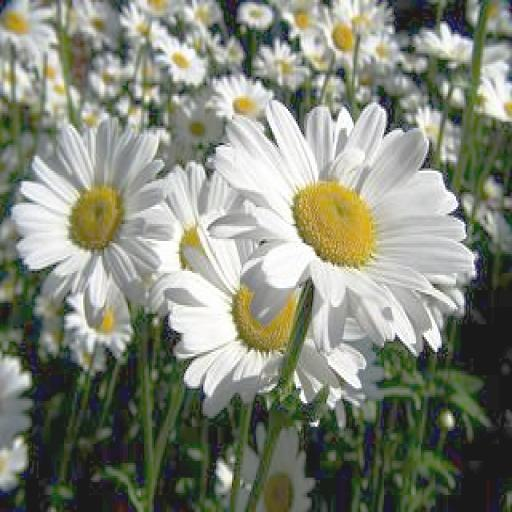daisy: (232, 122, 454, 309), (176, 241, 352, 399), (20, 130, 170, 314), (72, 305, 133, 352), (218, 75, 276, 117), (4, 2, 54, 47), (254, 51, 306, 88), (77, 2, 123, 43), (176, 105, 219, 145), (318, 15, 362, 53), (90, 51, 124, 98), (166, 38, 200, 81), (38, 49, 66, 92), (240, 2, 277, 21)
